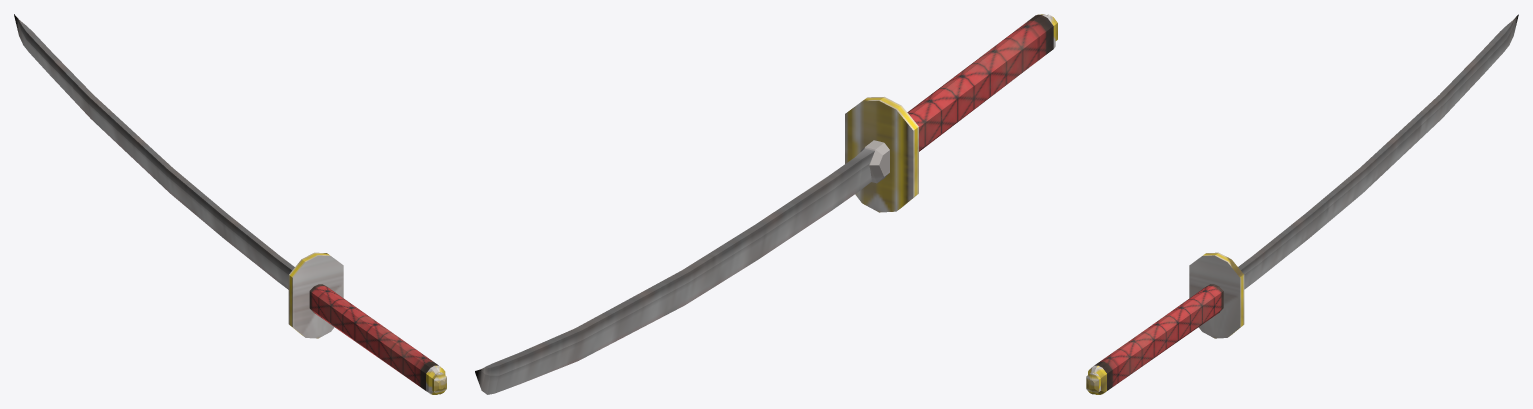
Rendered from katana.obj.
The picture shows the model from 3 angles, left to right: view 1: azimuth 30°, elevation 25°; view 2: azimuth 150°, elevation 25°; view 3: azimuth 330°, elevation 25°; orthographic projection. The views are drawn at different scales.
Parts seen in each view (by area): view 1: katana_katana_Cube.002; view 2: katana_katana_Cube.002; view 3: katana_katana_Cube.002.
Part boxes in pixels (box(x1,y1,x2,y2)): katana_katana_Cube.002: box(14, 14, 446, 394); katana_katana_Cube.002: box(475, 14, 1057, 394); katana_katana_Cube.002: box(1086, 14, 1518, 394).
Size of the model in its own units: 0.1259 by 0.2414 by 1.83.
